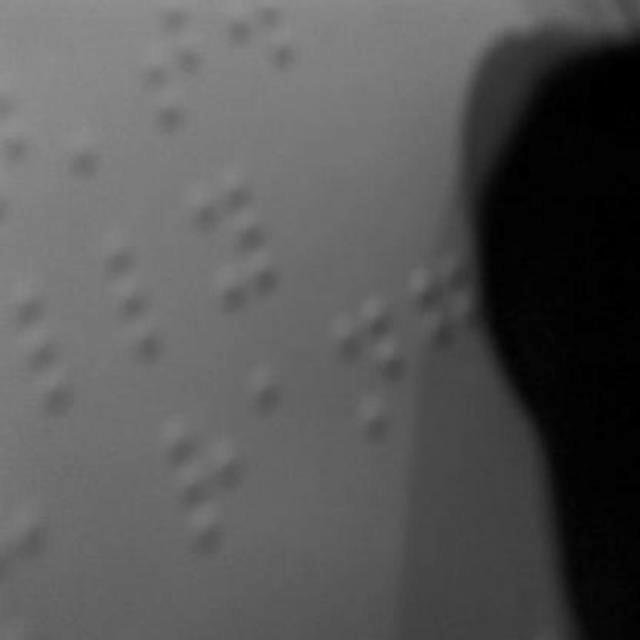braiile: (195, 174, 288, 310), (331, 286, 414, 438), (106, 233, 200, 363), (164, 412, 252, 546), (14, 280, 98, 412)
